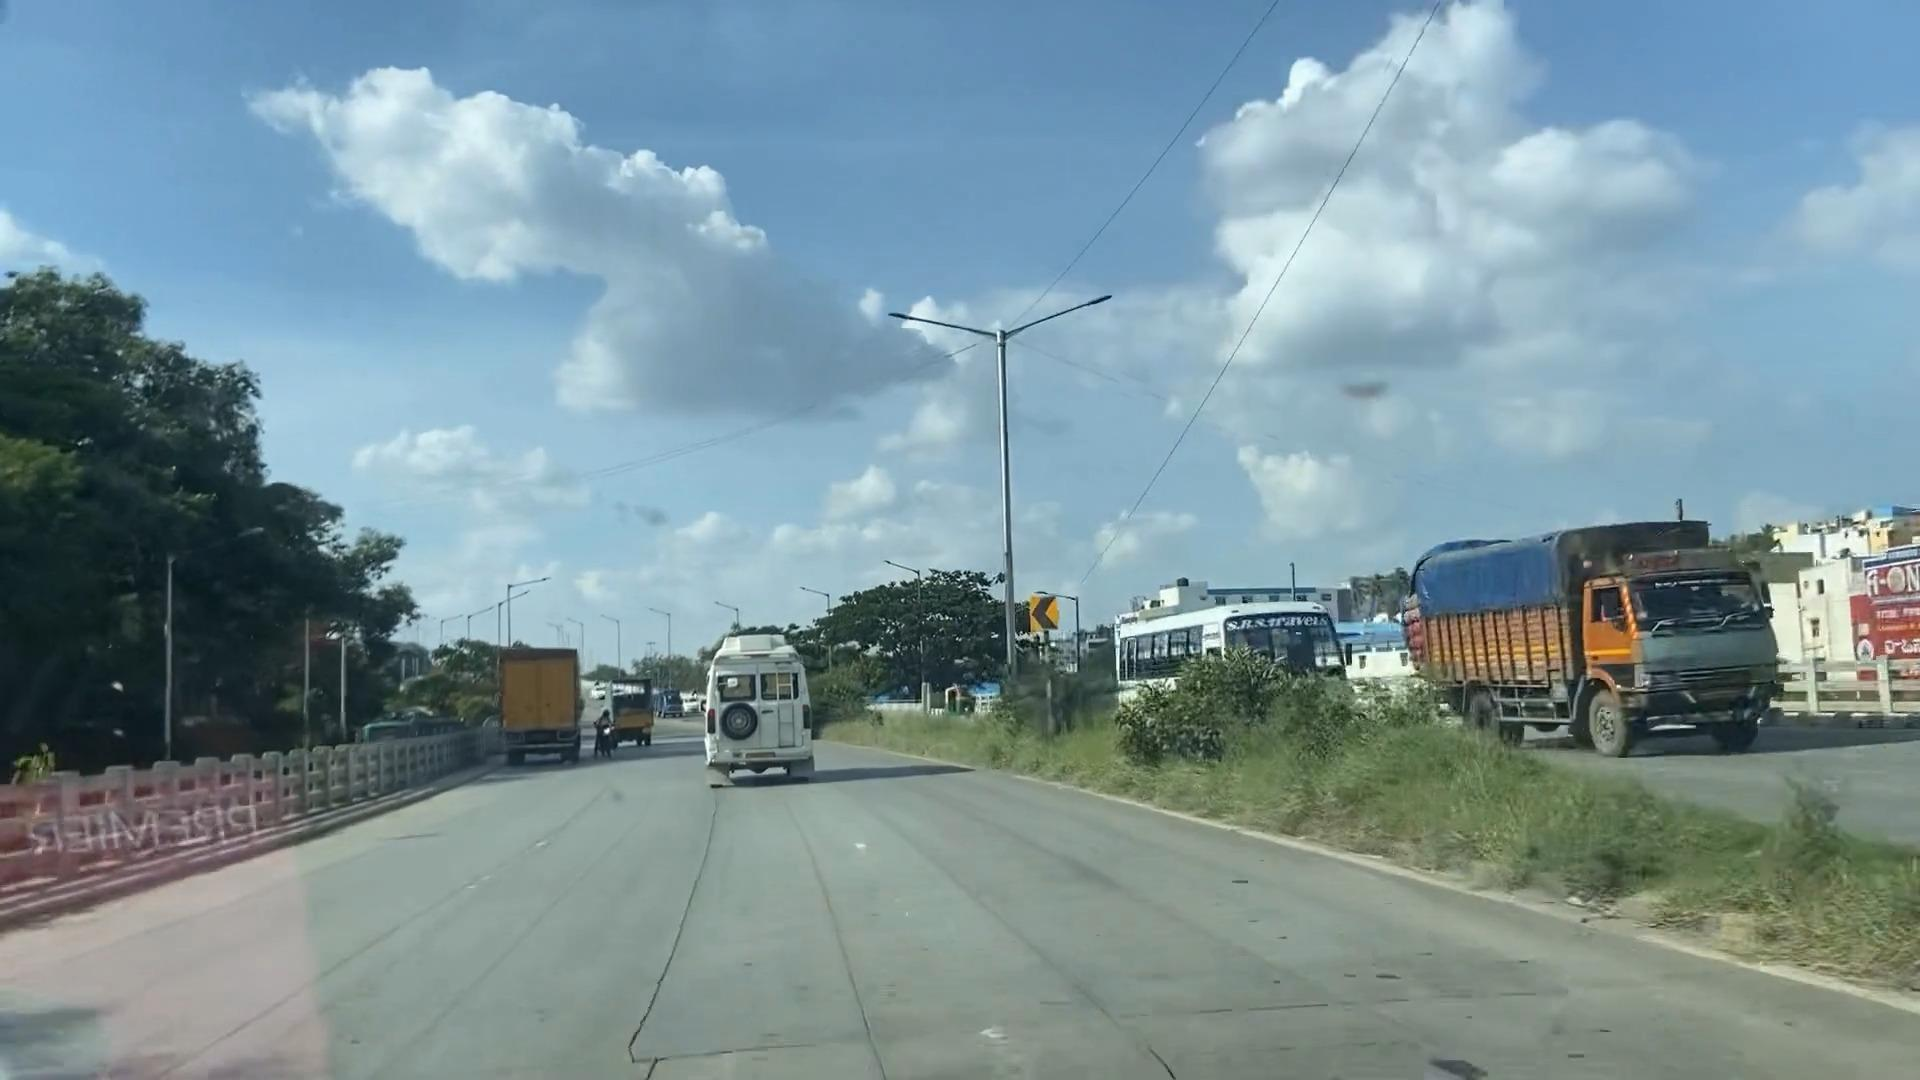HMV: (468, 642, 596, 786), (716, 637, 812, 796)
